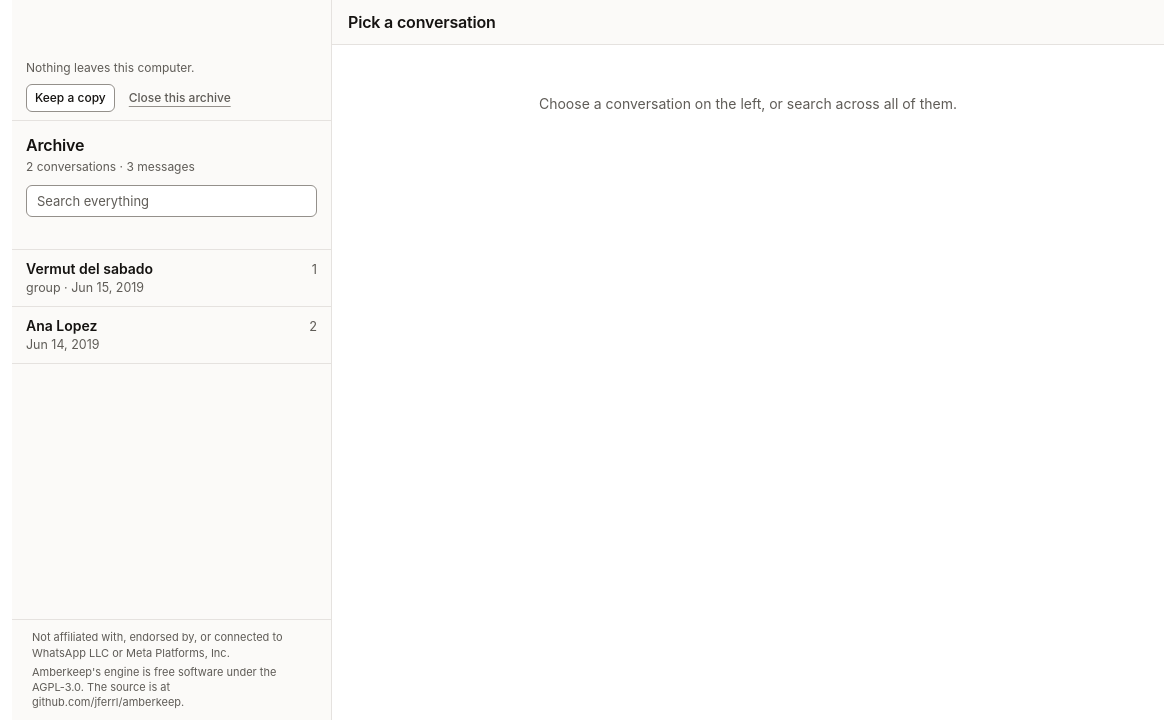
Scenario: searching › clearing the box goes back to the conversations
The width and height of the screenshot is (1164, 720).
Type "up" into the search field.
click(172, 201); type("up")  # box [26, 185, 317, 217]
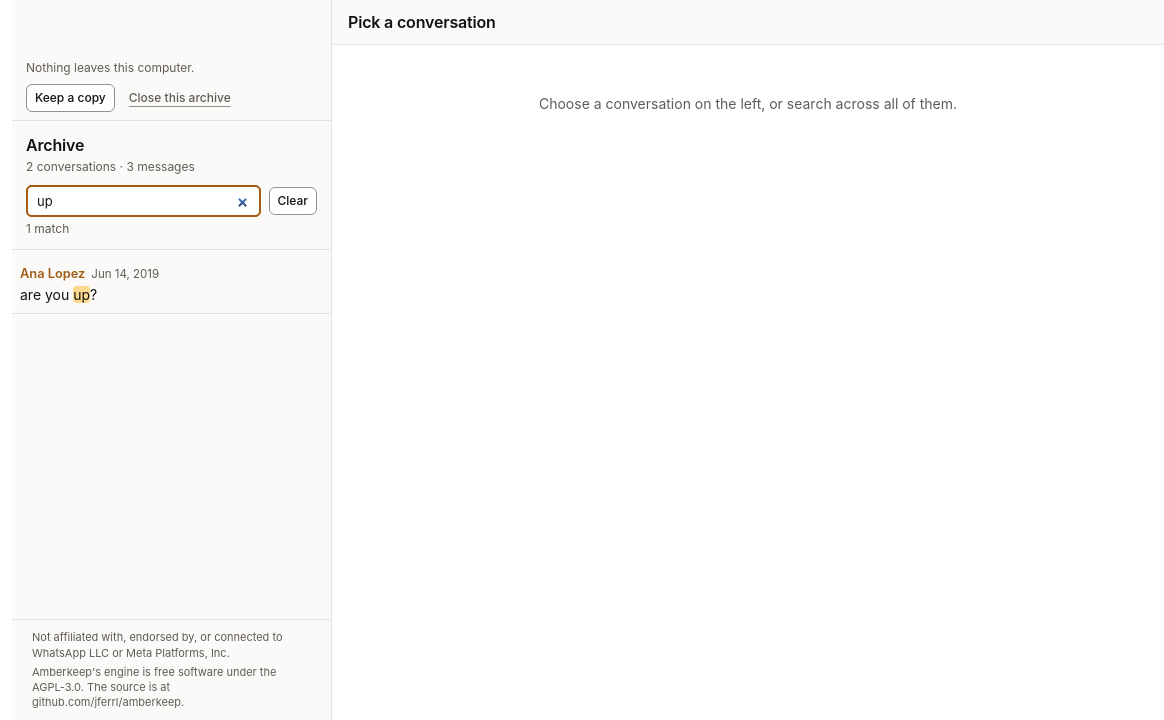
Expected: the text "1 match" is shown, [26, 221, 69, 236]
Click the button "Clear".
click(293, 201)  # box [268, 187, 317, 215]
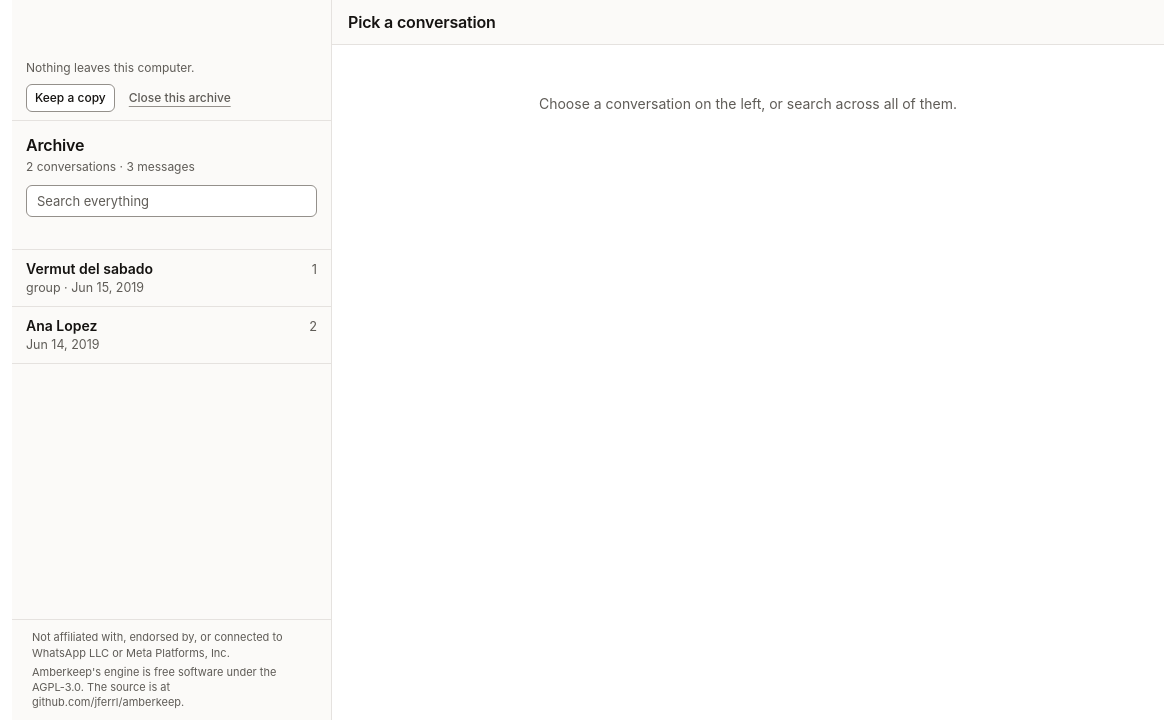
Expected: the list is shown, [12, 250, 331, 364]
